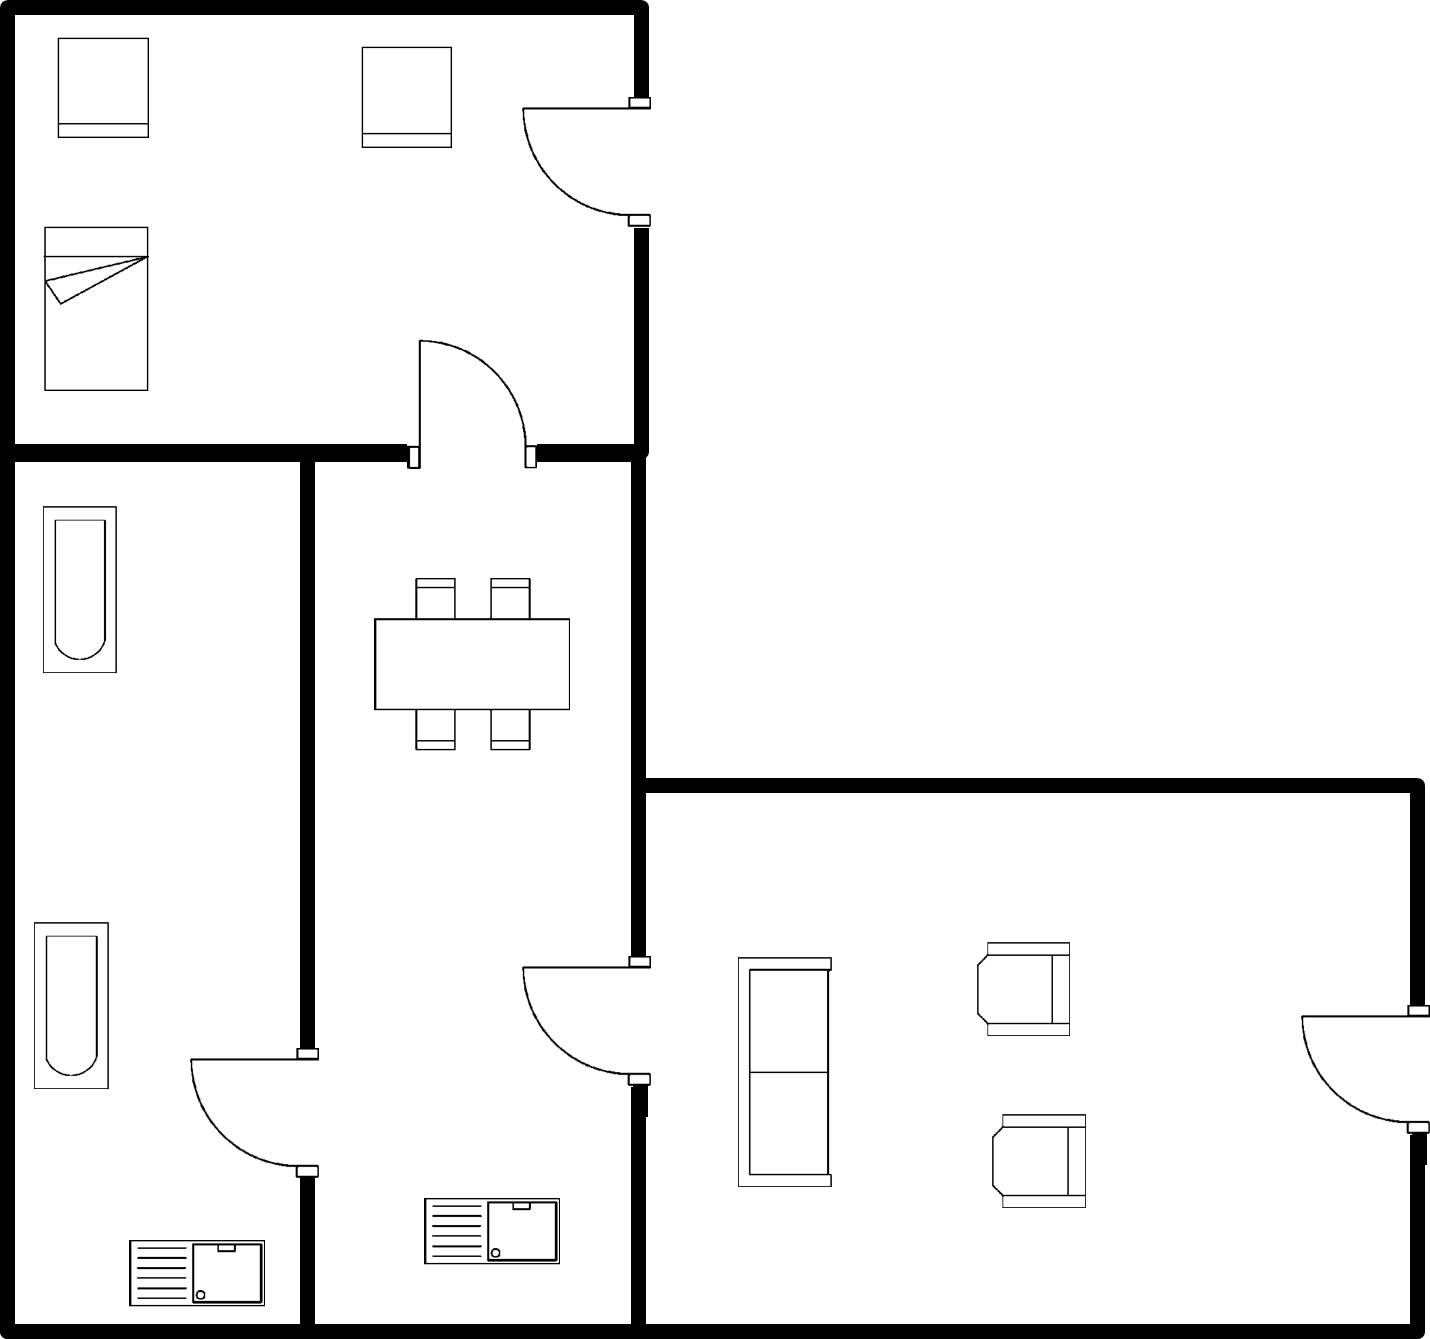armchair: (976, 1104, 1103, 1221), (961, 933, 1083, 1043)
bed: (37, 218, 158, 400)
dining_table: (367, 569, 579, 760)
large_sofa: (724, 946, 845, 1198)
sink: (119, 1224, 274, 1317), (409, 1185, 570, 1272)
small_sofa: (46, 28, 162, 150), (353, 35, 463, 157)
tub: (31, 491, 128, 685), (28, 913, 119, 1103)
